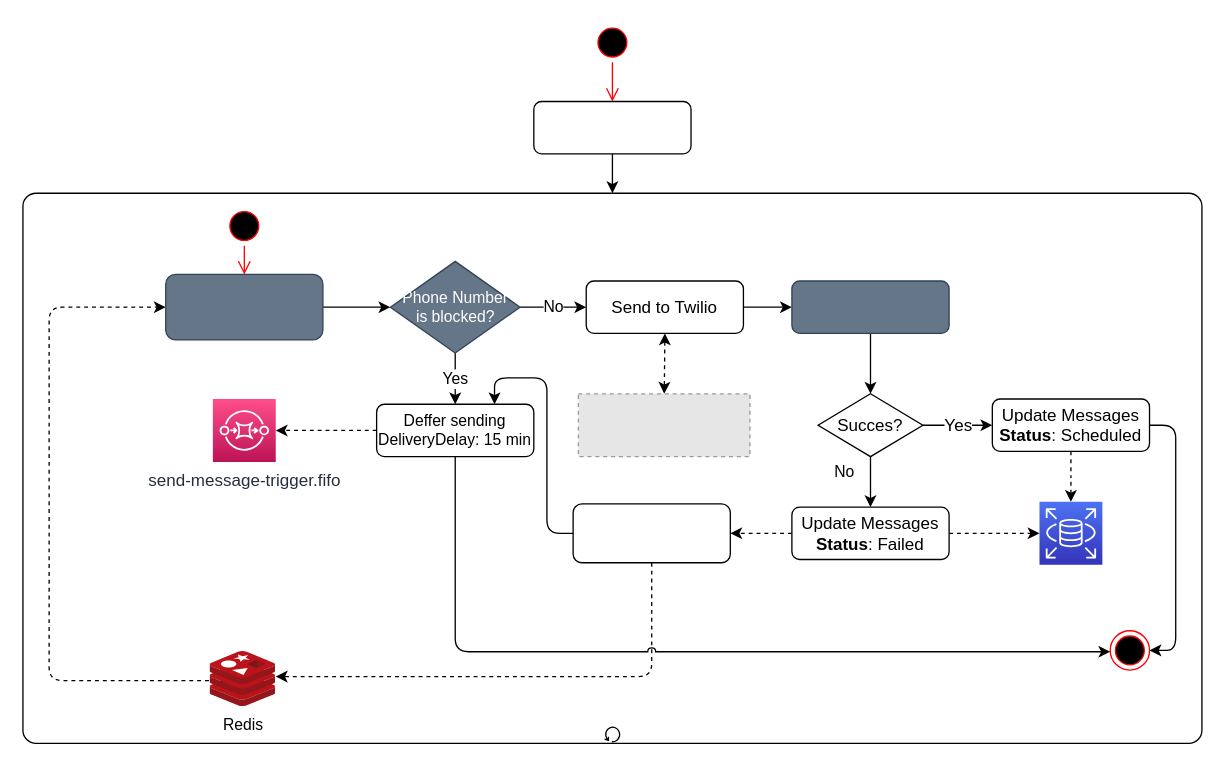
Some shapes in this 1225 by 766 pixel diagram are drawn without their labels. Grey dashed boxes stand in for pictures. Each missing label, with the centre of its shape:
Check Response: point 870,306
Check sender phone number block key exists: point 243,306
Create/Update block key by sender phone number, TTL- 2h: point 651,533
Read Batch Messages: point 612,127
